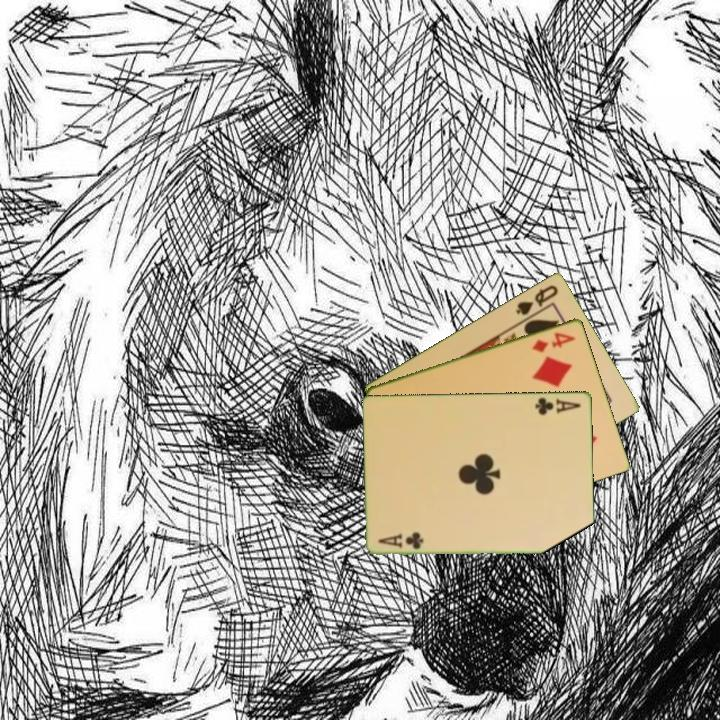4d: (529, 328, 578, 355)
Ac: (532, 394, 584, 418), (375, 529, 426, 551)
Qs: (512, 281, 561, 318)
